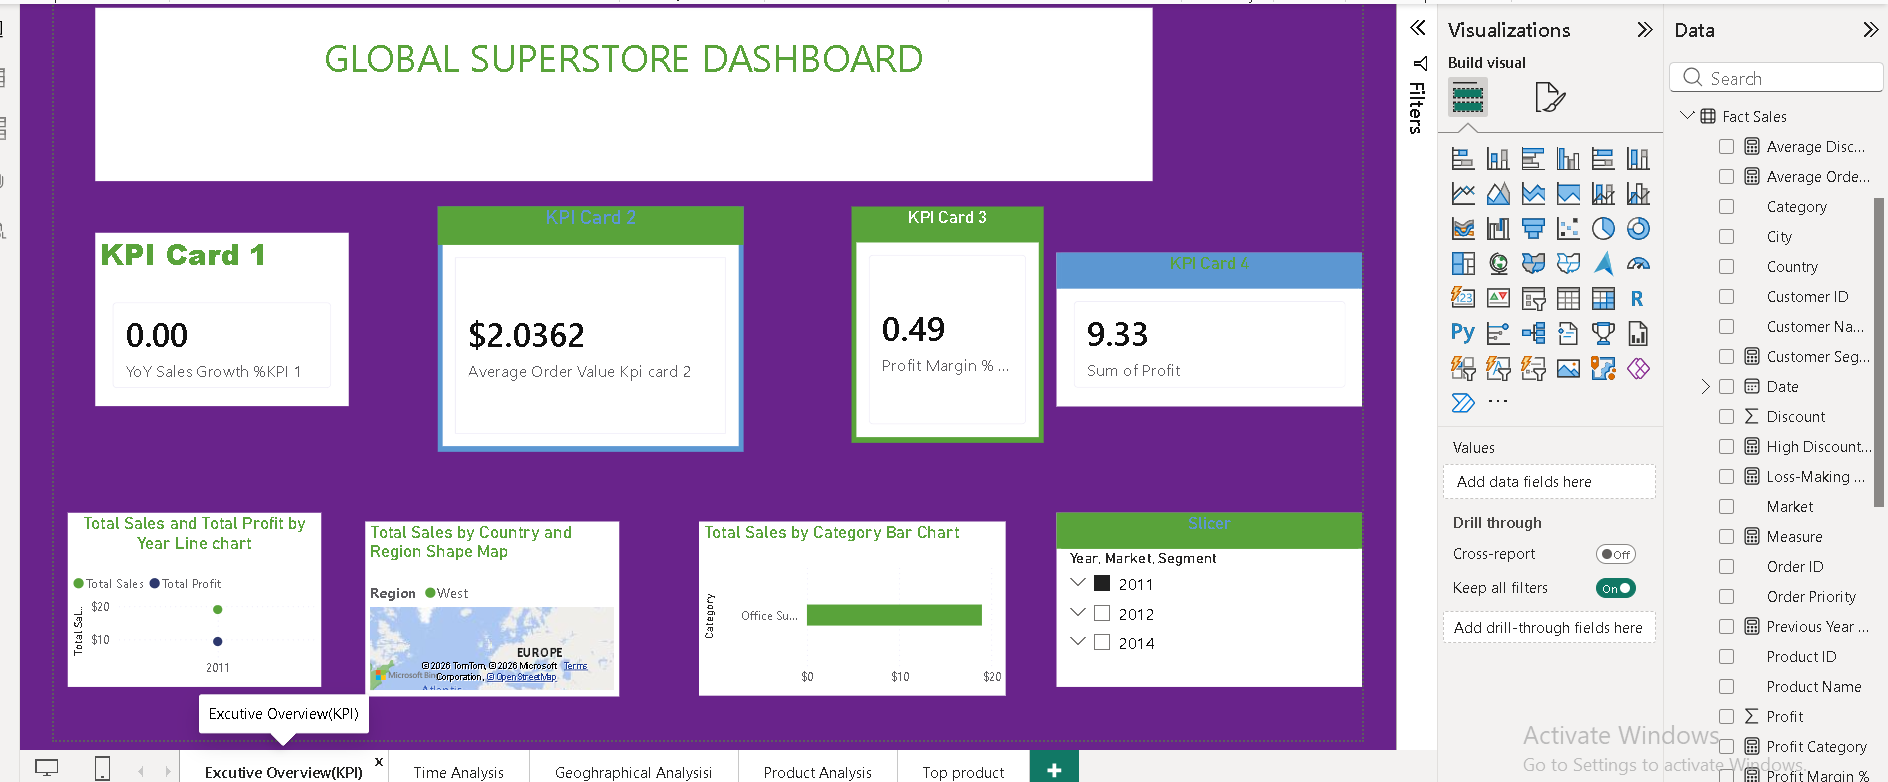

Layout of this report page (visuals, bound fields, positions):
{"tool":"powerbi","page":{"name":"Excutive Overview(KPI)","canvas":[1280,720],"ordinal":0},"visuals":[{"type":"cardVisual","title":"KPI Card 3","fields":{"Data":["Fact  Sales.Profit Margin %"]},"box":[780.2,198.1,188.3,231.1],"z":1},{"type":"cardVisual","title":"KPI Card 2","fields":{"Data":["Fact  Sales.Average Order Value"]},"box":[375.4,198.1,299.6,239.7],"z":2},{"type":"cardVisual","title":"KPI Card 1","fields":{"Data":["Fact  Sales.YoY Sales Growth %"]},"box":[40.4,223.8,248.2,170],"z":3},{"type":"lineChart","title":"Total Sales and Total Profit by Year Line chart","fields":{"Y":["Fact  Sales.Total Sales","Fact  Sales.Total Profit"],"Category":["Fact  Sales.Year"]},"box":[13.5,497.7,248,170],"z":4},{"type":"filledMap","title":"Total Sales by Country and Region Shape Map","fields":{"Category":["Fact  Sales.Country"],"Series":["Fact  Sales.Region"]},"box":[304.5,506.3,248,170],"z":5},{"type":"barChart","title":"Total Sales by Category  Bar Chart","fields":{"Y":["Fact  Sales.Total Sales"],"Category":["Fact  Sales.Category"]},"box":[631,506.3,300,170],"z":6},{"type":"slicer","title":"Slicer","fields":{"Values":["Fact  Sales.Year","Fact  Sales.Market","Fact  Sales.Segment"]},"box":[980.7,497.7,300,170],"z":7},{"type":"cardVisual","title":"KPI Card 4","fields":{"Data":["Sum(Fact  Sales.Profit)"]},"box":[980.7,243.3,300,150],"z":8},{"type":"textbox","box":[40.4,3.7,1034.5,170],"z":9}]}

Visuals, with their boxes in screenshot pixels (x1, y1, x2, y2):
"KPI Card 3" cardVisual: left=850, top=200, right=1045, bottom=438
"KPI Card 2" cardVisual: left=432, top=200, right=741, bottom=447
"KPI Card 1" cardVisual: left=86, top=226, right=342, bottom=402
"Total Sales and Total Profit by Year Line chart" lineChart: left=58, top=509, right=314, bottom=685
"Total Sales by Country and Region Shape Map" filledMap: left=359, top=518, right=615, bottom=694
"Total Sales by Category  Bar Chart" barChart: left=696, top=518, right=1006, bottom=694
"Slicer" slicer: left=1057, top=509, right=1367, bottom=685
"KPI Card 4" cardVisual: left=1057, top=246, right=1367, bottom=401
textbox: left=86, top=0, right=1154, bottom=174
